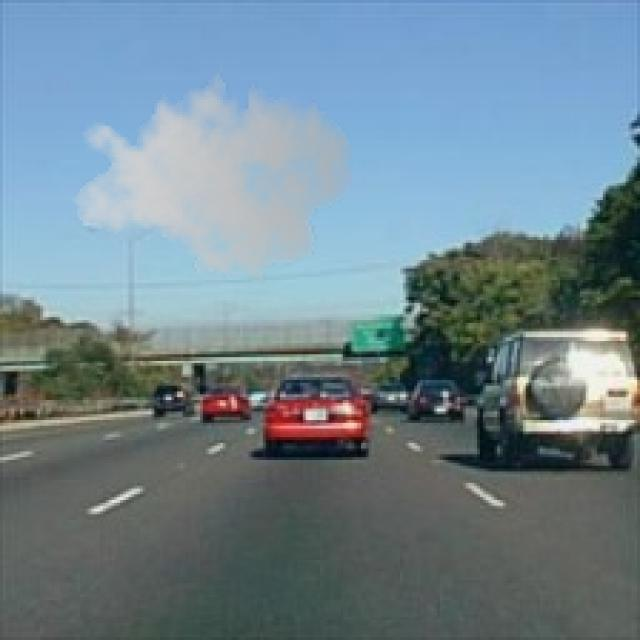Smoke: (72, 62, 354, 288)
